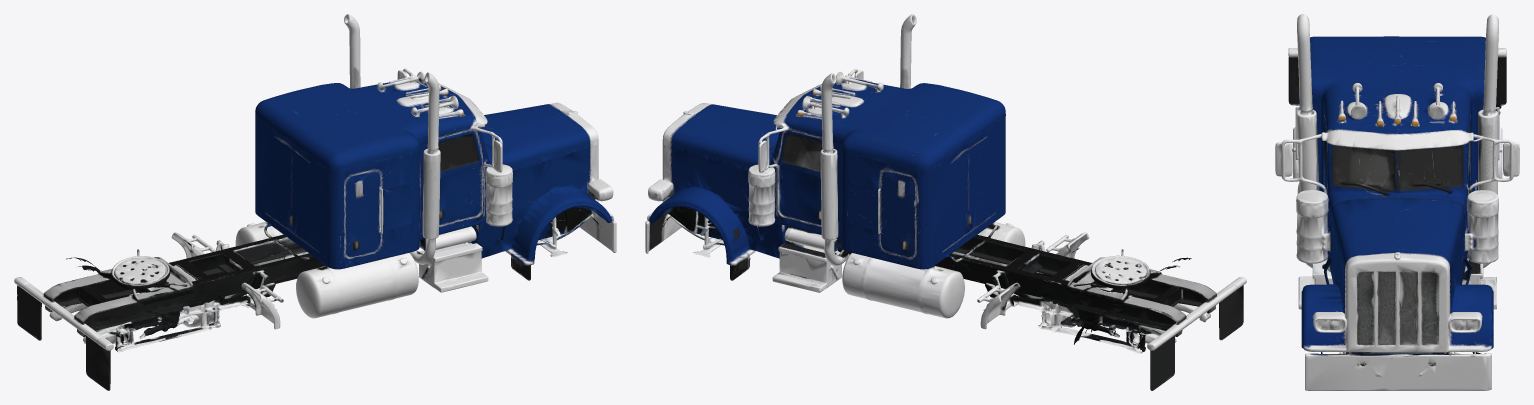
The model's file is semi.glb.
The picture shows the model from 3 angles, left to right: view 1: azimuth 30°, elevation 25°; view 2: azimuth 150°, elevation 25°; view 3: azimuth 270°, elevation 25°; orthographic projection. The views are drawn at different scales.
Parts seen in each view (by area): view 1: semi-body; view 2: semi-body; view 3: semi-body.
Boxes of the visible parts, x1=… form: semi-body: x1=14, y1=14, x2=616, y2=390; semi-body: x1=645, y1=14, x2=1246, y2=390; semi-body: x1=1275, y1=14, x2=1519, y2=390.
Size of the model in its own units: 8.06 by 3.5 by 2.78.
Materials: 1 (1 with a texture image).
